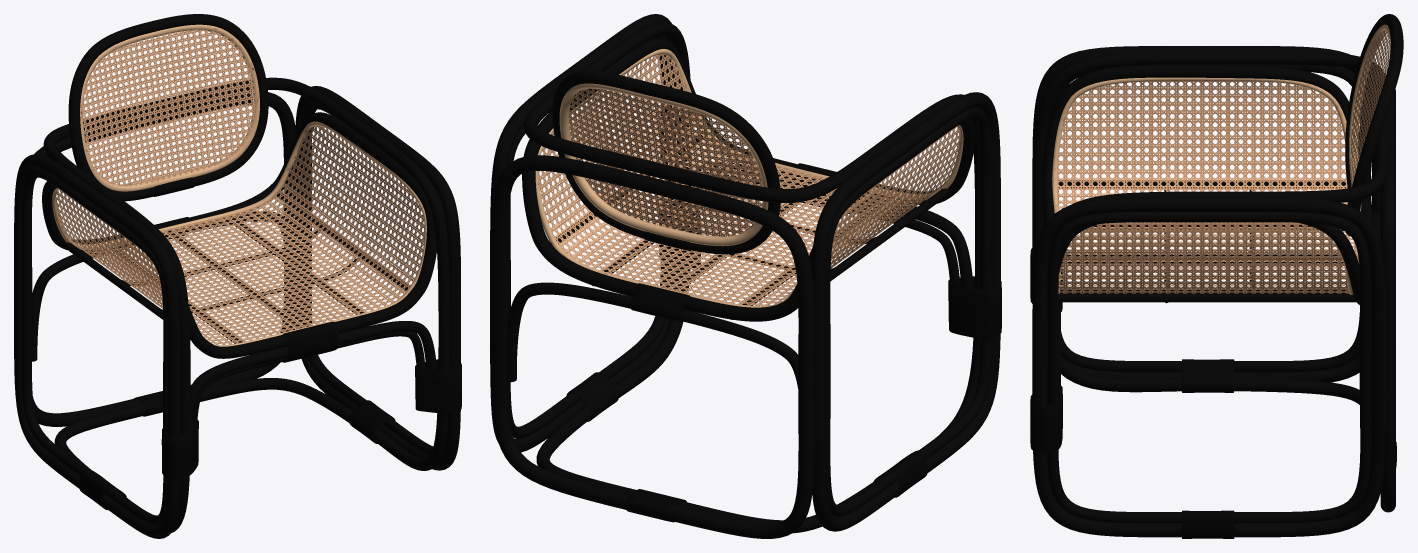
File: armchair-with-rattan-black-themasie-emba.glb
The picture shows the model from 3 angles, left to right: view 1: azimuth 30°, elevation 25°; view 2: azimuth 150°, elevation 25°; view 3: azimuth 270°, elevation 25°; orthographic projection. The views are drawn at different scales.
Parts seen in each view (by area): view 1: SM_TheMasie_Armchair_EMBA_Black_HP_M_Chair_Wood_Bentwood_Bla, SM_TheMasie_Armchair_EMBA_Black_HP, SM_TheMasie_Armchair_EMBA_Black_HP_M_Chair_Wood_Bentwood_Bri; view 2: SM_TheMasie_Armchair_EMBA_Black_HP_M_Chair_Wood_Bentwood_Bla, SM_TheMasie_Armchair_EMBA_Black_HP, SM_TheMasie_Armchair_EMBA_Black_HP_M_Chair_Wood_Bentwood_Bri; view 3: SM_TheMasie_Armchair_EMBA_Black_HP_M_Chair_Wood_Bentwood_Bla, SM_TheMasie_Armchair_EMBA_Black_HP, SM_TheMasie_Armchair_EMBA_Black_HP_M_Chair_Wood_Bentwood_Bri.
Boxes of the visible parts, x1,y1,x2,y2 form: SM_TheMasie_Armchair_EMBA_Black_HP_M_Chair_Wood_Bentwood_Bla: (14, 14, 460, 538); SM_TheMasie_Armchair_EMBA_Black_HP: (56, 29, 461, 509); SM_TheMasie_Armchair_EMBA_Black_HP_M_Chair_Wood_Bentwood_Bri: (52, 24, 426, 346); SM_TheMasie_Armchair_EMBA_Black_HP_M_Chair_Wood_Bentwood_Bla: (490, 14, 1000, 538); SM_TheMasie_Armchair_EMBA_Black_HP: (538, 54, 1001, 522); SM_TheMasie_Armchair_EMBA_Black_HP_M_Chair_Wood_Bentwood_Bri: (535, 49, 963, 307); SM_TheMasie_Armchair_EMBA_Black_HP_M_Chair_Wood_Bentwood_Bla: (1032, 14, 1403, 537); SM_TheMasie_Armchair_EMBA_Black_HP: (1030, 30, 1396, 538); SM_TheMasie_Armchair_EMBA_Black_HP_M_Chair_Wood_Bentwood_Bri: (1052, 24, 1390, 294).
Size of the model in its own units: 0.7746 by 0.9592 by 0.7667.
Materials: 4 (4 with a texture image).
